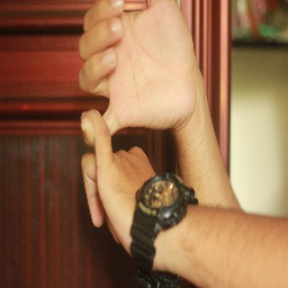S: (69, 1, 205, 234)
